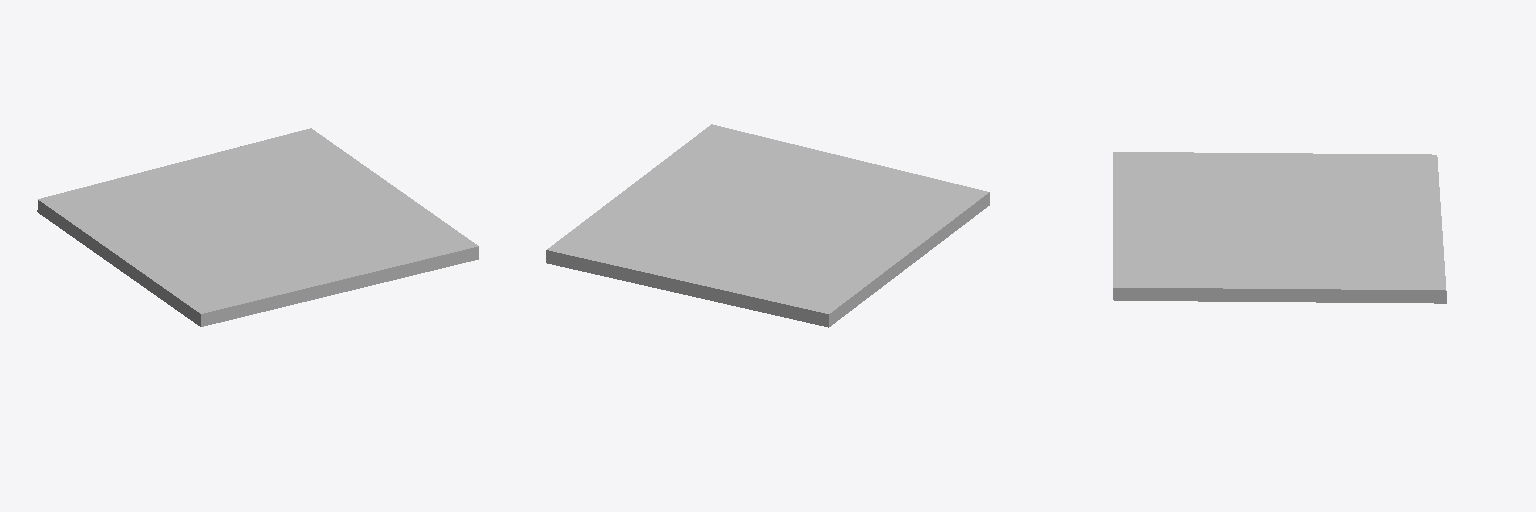
The picture shows the model from 3 angles: view 1: azimuth 30°, elevation 25°; view 2: azimuth 150°, elevation 25°; view 3: azimuth 270°, elevation 25°; orthographic projection.
Visible parts, largest first — view 1: ground; view 2: ground; view 3: ground.
Boxes of the visible parts, x1=… form: ground: x1=37, y1=128, x2=478, y2=326; ground: x1=546, y1=124, x2=989, y2=327; ground: x1=1113, y1=152, x2=1446, y2=303.
Size of the model in its own units: 1953 by 489 by 2018.